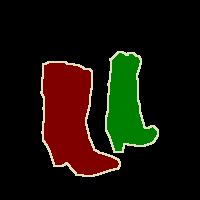shoe: (41, 61, 120, 176), (106, 52, 158, 152)
